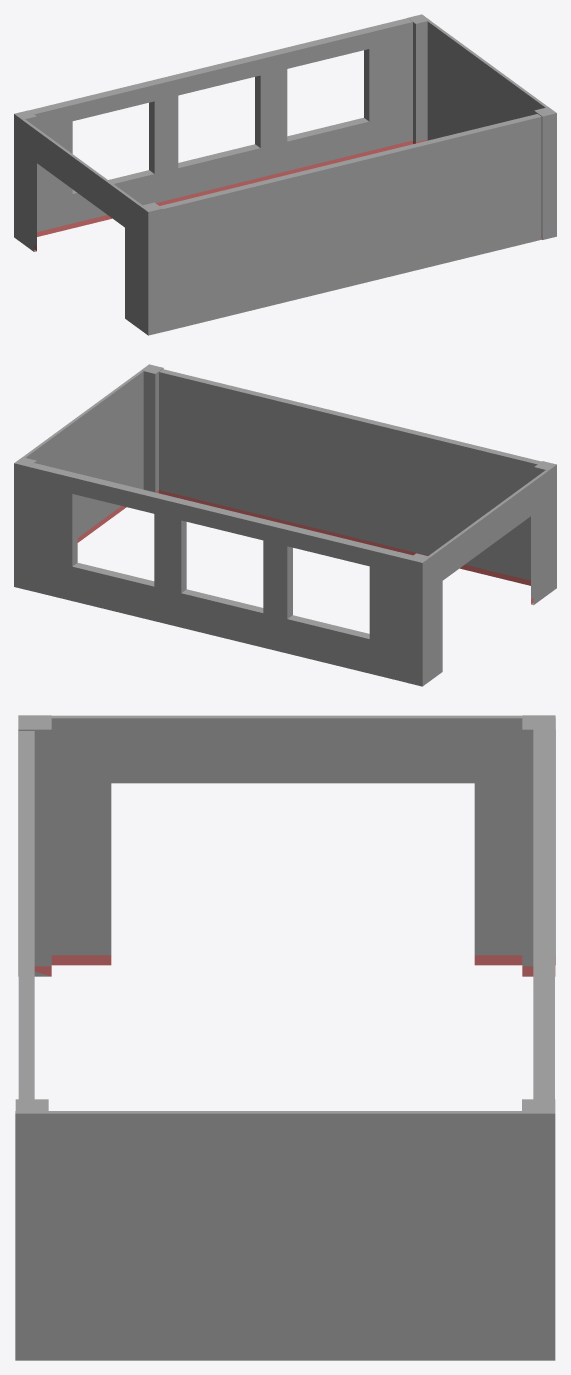
File: wall.fbx
3 renders of one model, top to bottom at view 1: azimuth 30°, elevation 25°; view 2: azimuth 150°, elevation 25°; view 3: azimuth 270°, elevation 25°, orthographic. The views are drawn at different scales.
Visible parts, largest first — view 1: pCube1, Wall 2, Wall 4, Wall 1; view 2: pCube1, Wall 2, Wall 4, Wall 1; view 3: Wall 4, Wall 1, Wall 2, pCube1.
Boxes of the visible parts, <box> form: pCube1: <box>160,114,541,331</box>; Wall 2: <box>29,18,412,236</box>; Wall 4: <box>408,14,556,239</box>; Wall 1: <box>14,110,162,335</box>; pCube1: <box>159,369,541,585</box>; Wall 2: <box>28,463,412,682</box>; Wall 4: <box>14,364,163,590</box>; Wall 1: <box>408,461,556,686</box>; Wall 4: <box>15,1099,555,1360</box>; Wall 1: <box>18,715,555,976</box>; Wall 2: <box>533,729,554,1099</box>; pCube1: <box>18,731,34,1099</box>.
Bounding box in the file's own units: 1471 × 426 × 843.
